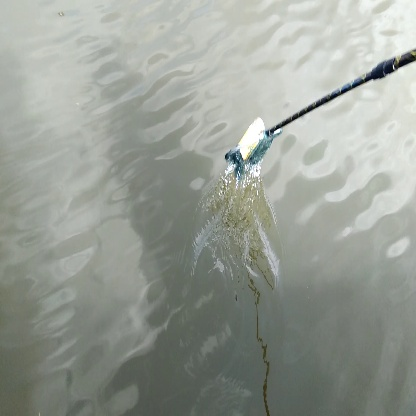bottle: (236, 114, 266, 162)
